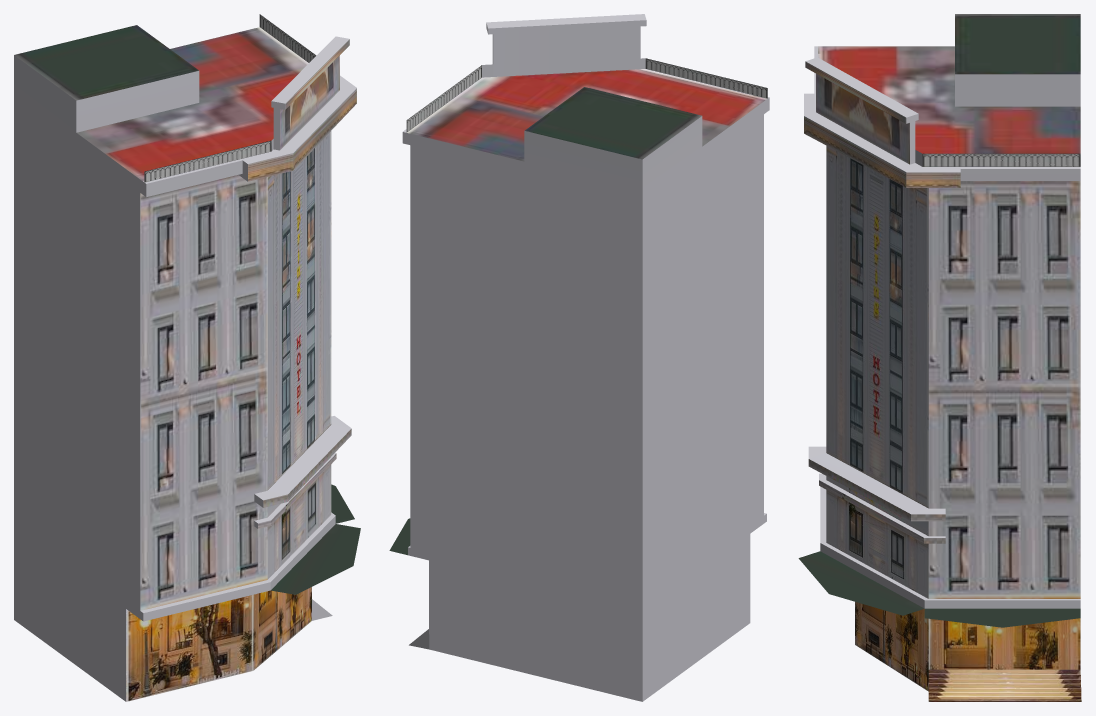
3 views of the same model, side by side, from view 1: azimuth 30°, elevation 25°; view 2: azimuth 150°, elevation 25°; view 3: azimuth 270°, elevation 25° (orthographic). The views are drawn at different scales.
Visible parts, largest first — view 1: HN148_Spring_Hotel_Hanoi; view 2: HN148_Spring_Hotel_Hanoi; view 3: HN148_Spring_Hotel_Hanoi.
Part boxes in pixels (x1,y1,x2,y2): HN148_Spring_Hotel_Hanoi: (14,14,360,701); HN148_Spring_Hotel_Hanoi: (389,14,769,701); HN148_Spring_Hotel_Hanoi: (798,14,1081,701).
Size of the model in its own units: 22.23 by 43.81 by 19.14.
1 material, 1 textured.
